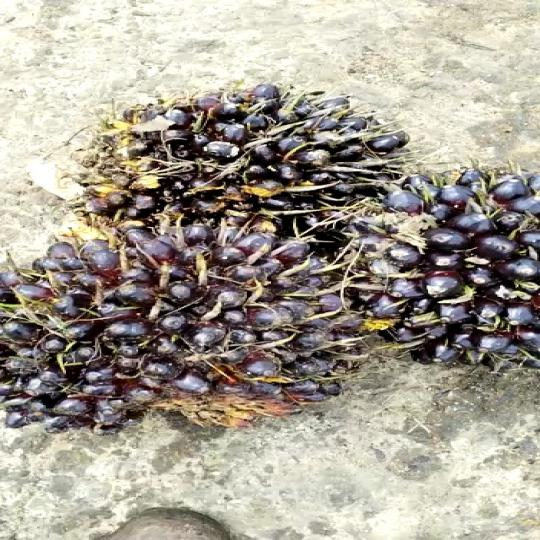mentah: (0, 219, 352, 454), (46, 66, 426, 253)
